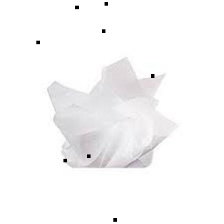tissue: (40, 51, 182, 173)
